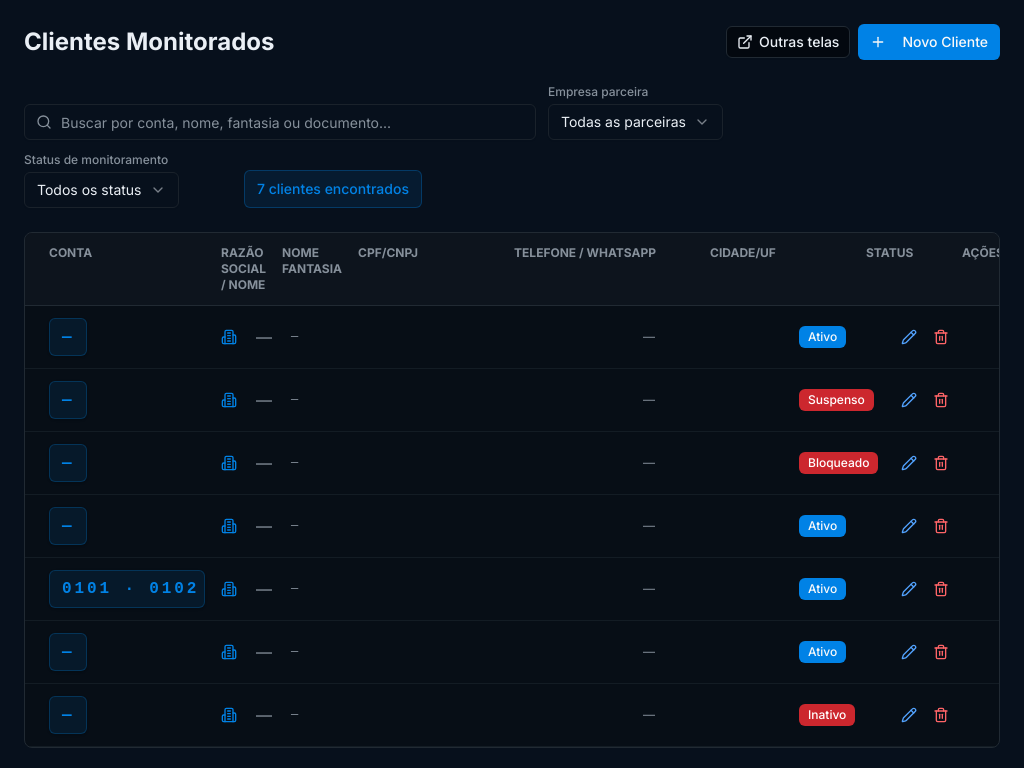
Test: Clientes — Novo Cliente › abre o formulário no próximo ciclo após o clique, sem desmontagem imediata
Click the button "Novo Cliente" at (929, 42), box [858, 24, 1000, 60]
(page scrolled)
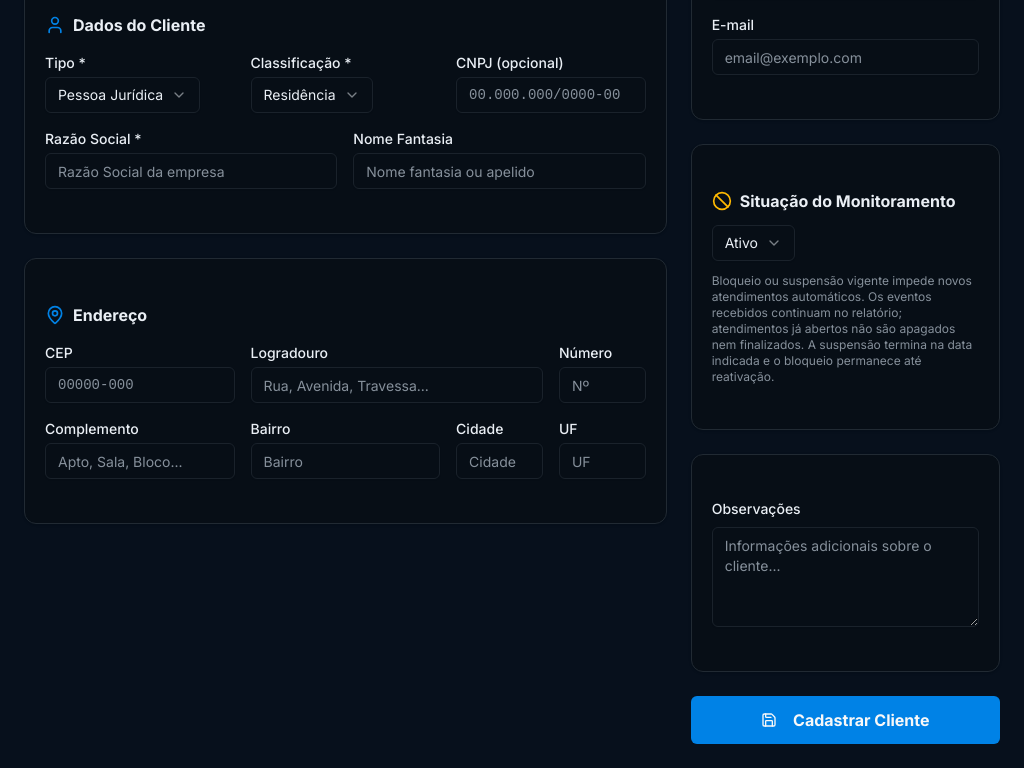
Result: the heading "Situação do Monitoramento" is shown at [740, 189, 956, 213]
Result: the button "Cadastrar Cliente" is shown at [691, 696, 1000, 744]
